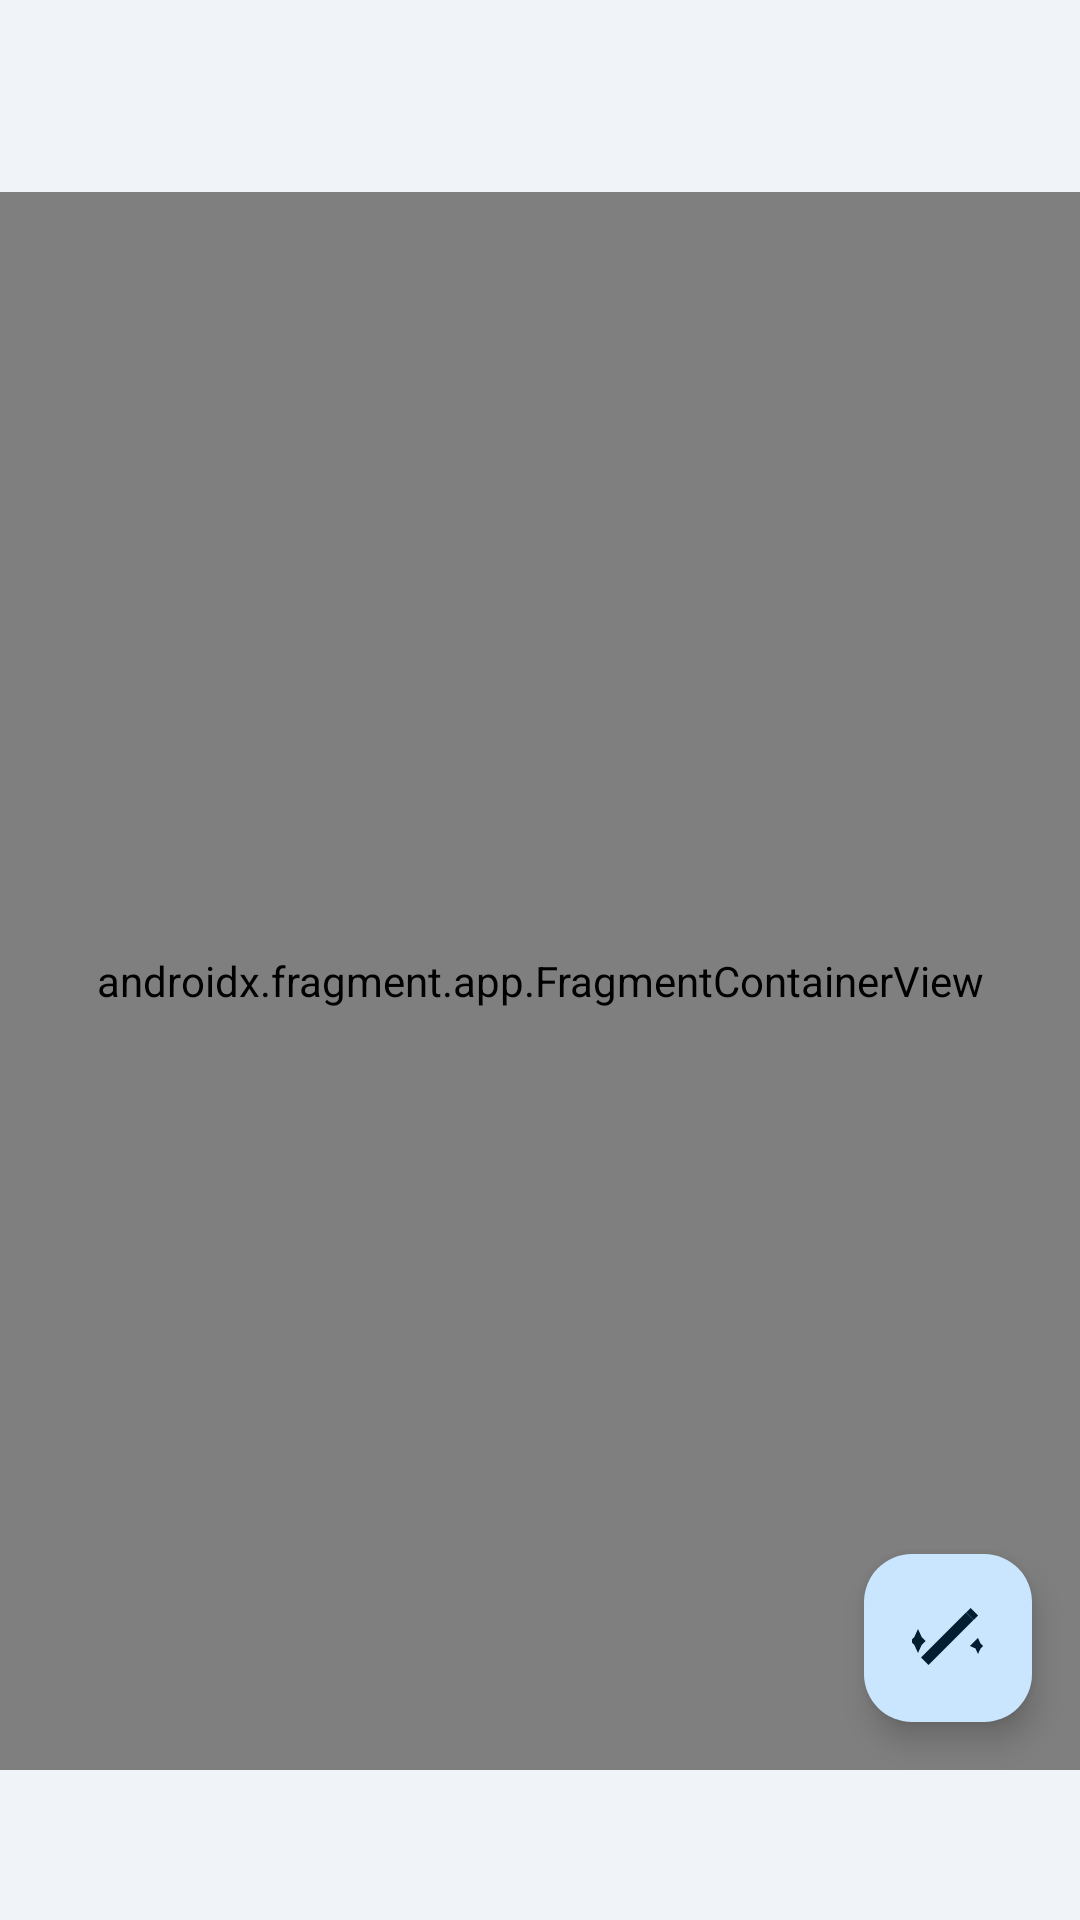

Icon bounding boxes for this 1080 x 1920 phone screenshot, format (x1, y1, x2, y2):
Magic: (864, 1554, 1032, 1722)
